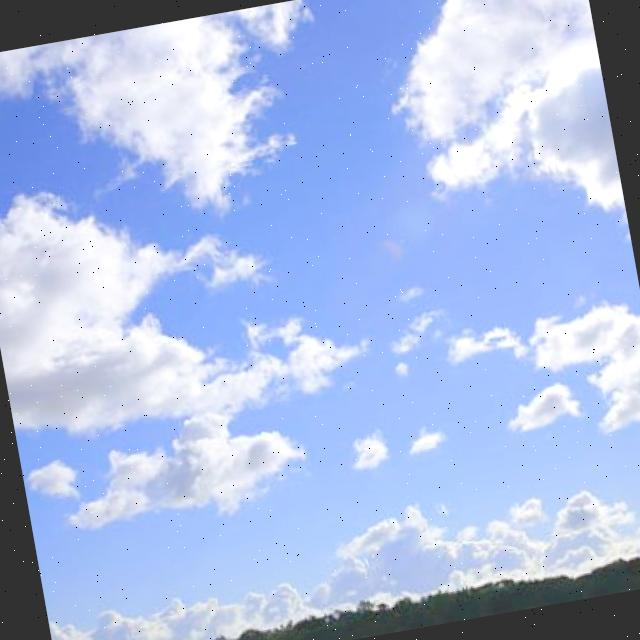Cc: (1, 1, 640, 542)
